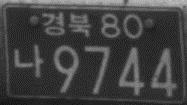0: (123, 13, 142, 38)
4: (149, 47, 177, 96), (118, 46, 145, 96)
7: (83, 44, 110, 94)
8: (100, 12, 120, 38)
9: (53, 44, 79, 93)
경북_O: (41, 12, 91, 38)
나: (13, 42, 44, 79)
